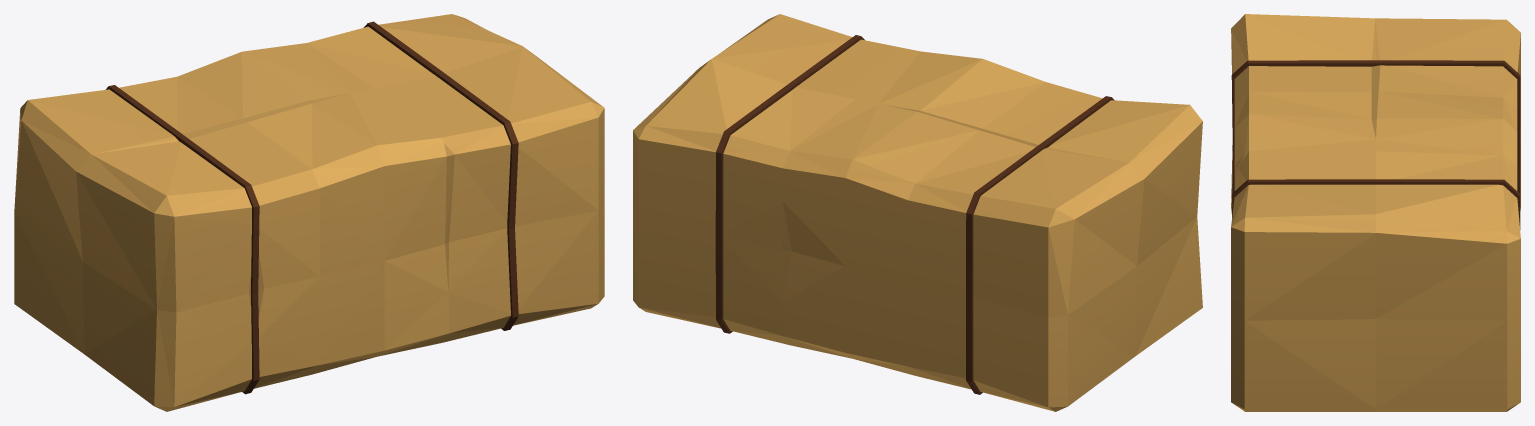
File: Prop_Hay_Bale_Square_01.obj
The picture shows the model from 3 angles, left to right: view 1: azimuth 30°, elevation 25°; view 2: azimuth 150°, elevation 25°; view 3: azimuth 270°, elevation 25°; orthographic projection. The views are drawn at different scales.
Visible parts, largest first — view 1: Prop_Hay_Bale_Square_01; view 2: Prop_Hay_Bale_Square_01; view 3: Prop_Hay_Bale_Square_01.
Part boxes in pixels (x1,y1,x2,y2): Prop_Hay_Bale_Square_01: (14, 14, 604, 411); Prop_Hay_Bale_Square_01: (633, 14, 1202, 411); Prop_Hay_Bale_Square_01: (1231, 14, 1520, 411).
Size of the model in its own units: 1.77 by 0.8049 by 1.03.
